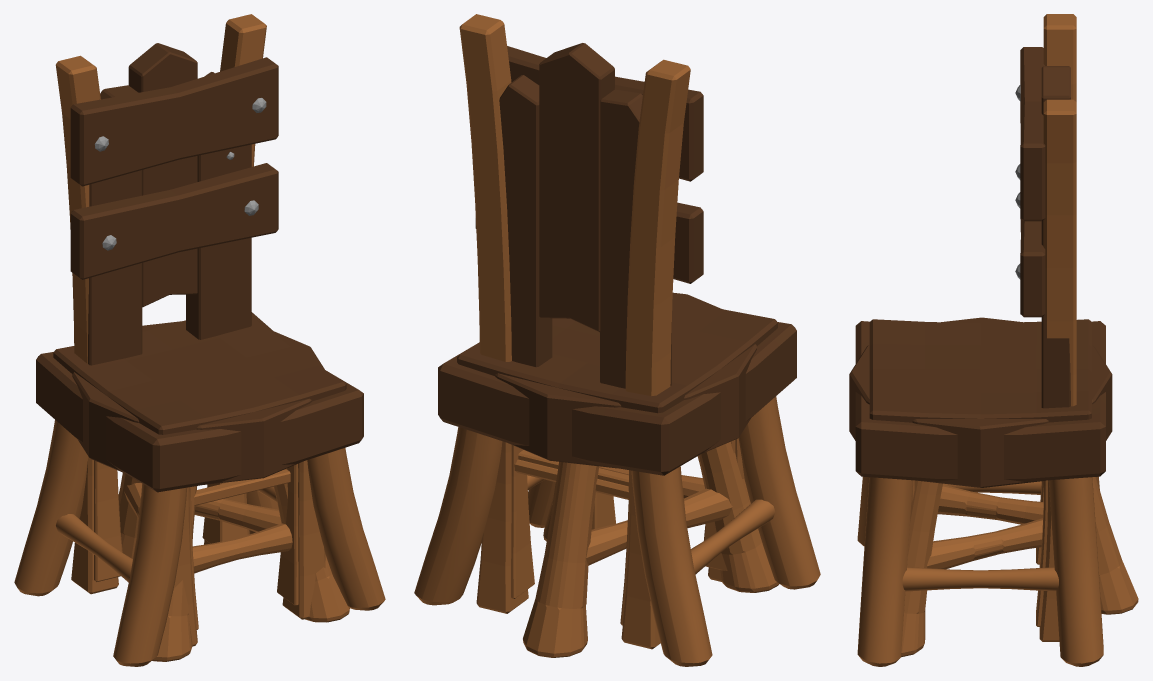
File: Chairs.fbx
3 renders of one model, left to right at view 1: azimuth 30°, elevation 25°; view 2: azimuth 150°, elevation 25°; view 3: azimuth 270°, elevation 25°, orthographic. The views are drawn at different scales.
Parts seen in each view (by area): view 1: ChairSquare, StoolSquare, ChairRound, StoolRound; view 2: ChairSquare, StoolSquare, ChairRound, StoolRound; view 3: ChairSquare, StoolSquare, StoolRound, ChairRound.
Boxes of the visible parts, bbox=[...] form: ChairSquare: bbox=[53, 14, 346, 646]; StoolSquare: bbox=[14, 312, 385, 666]; ChairRound: bbox=[88, 43, 298, 629]; StoolRound: bbox=[72, 321, 349, 661]; ChairSquare: bbox=[457, 14, 777, 649]; StoolSquare: bbox=[414, 322, 820, 666]; ChairRound: bbox=[499, 43, 735, 625]; StoolRound: bbox=[495, 292, 779, 657]; ChairSquare: bbox=[869, 14, 1091, 641]; StoolSquare: bbox=[855, 321, 1105, 666]; StoolRound: bbox=[849, 317, 1138, 657]; ChairRound: bbox=[911, 66, 1070, 626].
Size of the model in its own units: 0.7163 by 1.36 by 0.6563.
